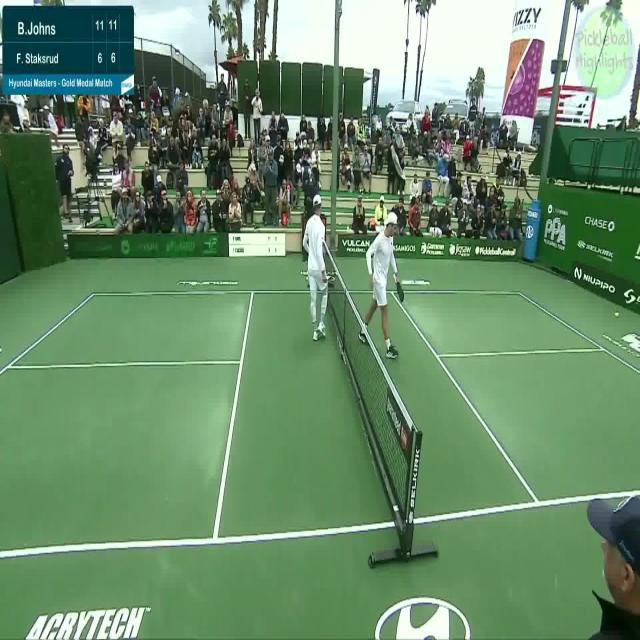ball: (612, 304, 622, 324)
